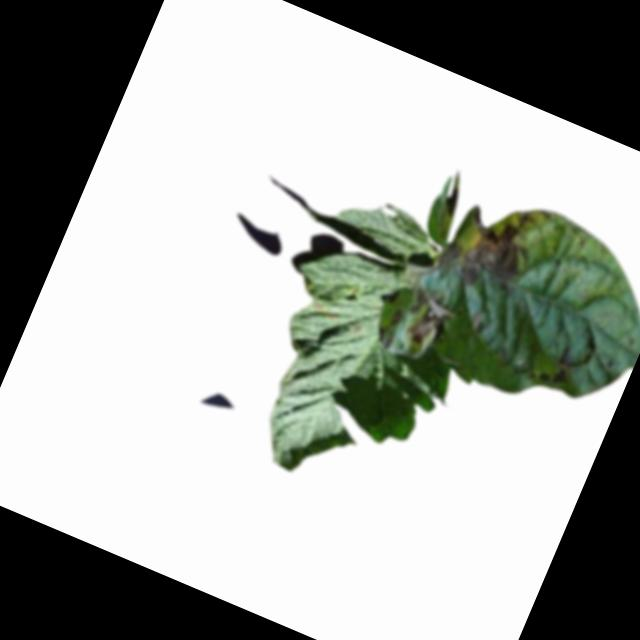Early_blight: (435, 192, 541, 304), (397, 284, 463, 356), (547, 342, 584, 389), (308, 301, 340, 326), (377, 284, 403, 308), (384, 305, 407, 330)
